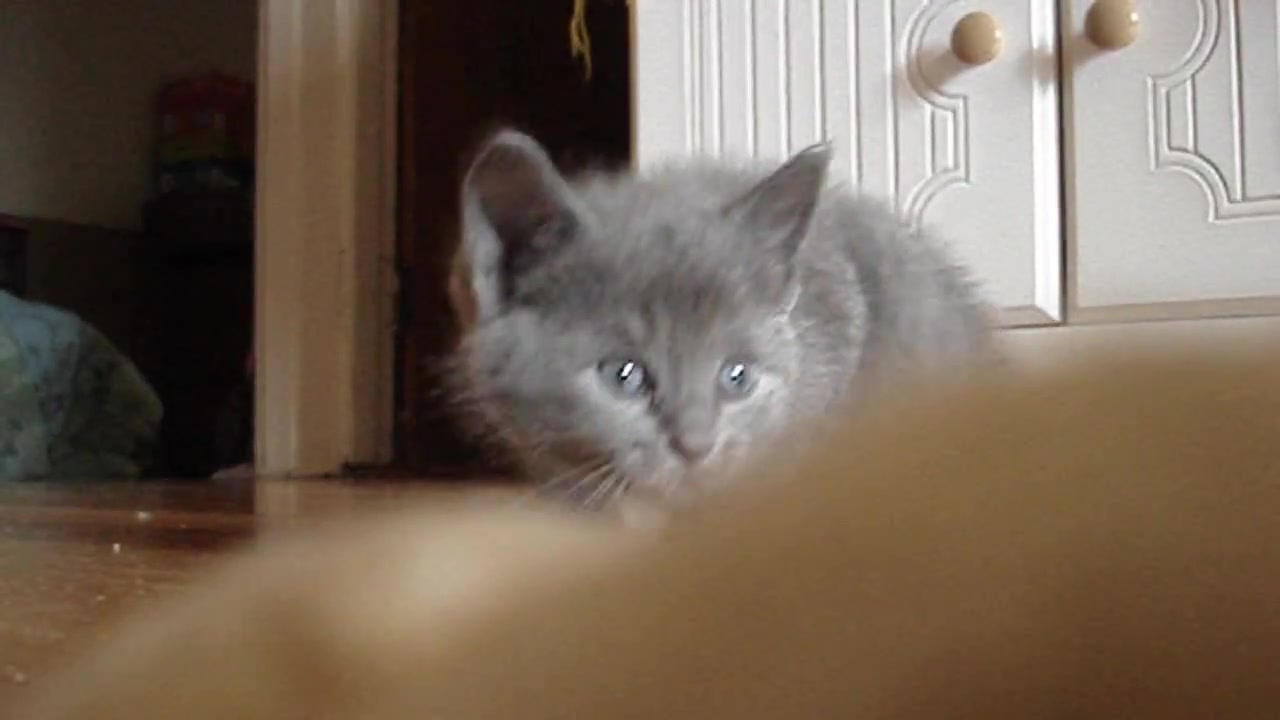cat: (453, 132, 1010, 542)
